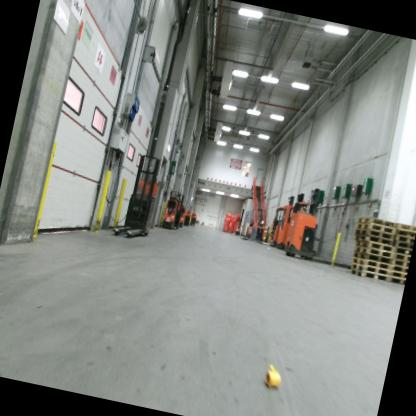forklift: (282, 191, 329, 263), (272, 191, 307, 257), (266, 191, 296, 250)
pallet: (353, 231, 395, 246), (354, 238, 394, 253), (348, 267, 388, 282), (357, 214, 396, 229), (350, 256, 389, 271), (355, 220, 396, 234), (354, 225, 395, 239), (353, 244, 392, 258), (352, 250, 391, 264), (350, 262, 388, 276), (389, 257, 409, 268), (395, 228, 415, 239), (394, 221, 416, 231), (386, 275, 405, 286), (388, 264, 408, 274), (394, 240, 413, 250), (393, 246, 411, 256), (387, 270, 406, 279), (391, 252, 410, 261), (394, 235, 413, 243)
pallet_truck: (109, 141, 170, 243), (159, 185, 186, 232), (244, 214, 272, 248), (175, 200, 189, 229), (239, 218, 255, 240), (182, 209, 195, 230), (186, 209, 198, 227), (233, 217, 243, 236)
